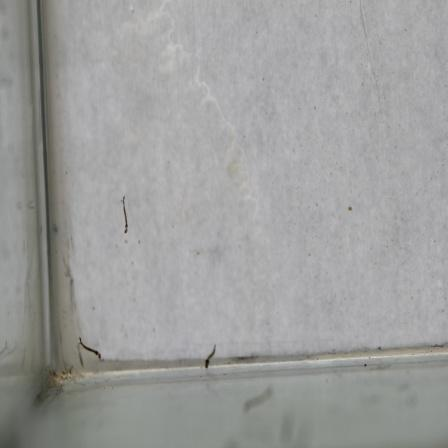Jentik-Nyamuk: (76, 334, 106, 363), (118, 190, 135, 238), (200, 343, 223, 375)
